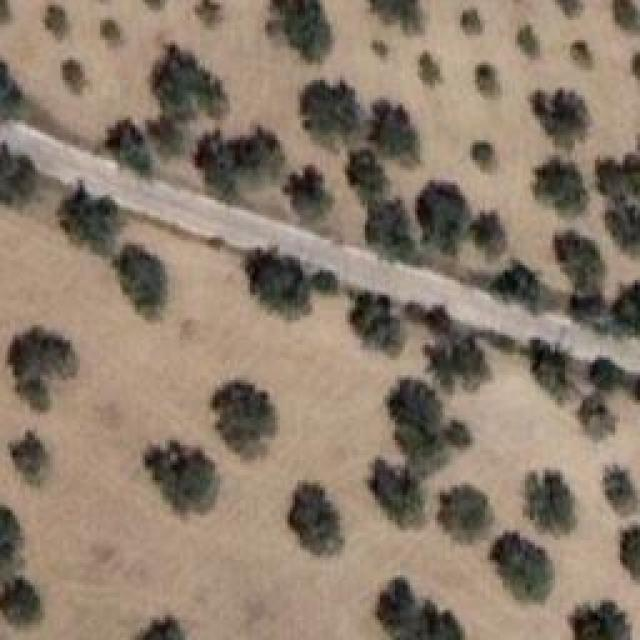Tree: (195, 128, 285, 203), (370, 573, 467, 640), (153, 45, 229, 122), (248, 245, 313, 322), (280, 470, 344, 548), (8, 330, 72, 405), (493, 528, 560, 598), (155, 440, 221, 511), (300, 80, 364, 153), (207, 383, 272, 453), (60, 180, 119, 256), (522, 70, 584, 139), (513, 465, 579, 529), (368, 458, 431, 522), (550, 220, 603, 295), (345, 290, 405, 356), (115, 245, 168, 318), (430, 483, 488, 548), (368, 100, 421, 165), (425, 325, 475, 388), (420, 173, 466, 237), (390, 420, 444, 473), (283, 165, 333, 222), (565, 595, 629, 639), (285, 0, 331, 61), (385, 372, 440, 421), (0, 143, 37, 215), (105, 118, 151, 175), (528, 348, 576, 399), (537, 153, 586, 201), (368, 197, 411, 251), (597, 194, 640, 247), (348, 147, 391, 198), (3, 577, 46, 626), (408, 298, 453, 338), (370, 0, 423, 32), (15, 428, 47, 480), (607, 293, 639, 343), (573, 395, 615, 433), (490, 265, 527, 308), (0, 508, 22, 574), (132, 615, 190, 640), (0, 60, 22, 122), (608, 470, 637, 517), (598, 150, 627, 193), (475, 210, 506, 250), (617, 530, 640, 577), (440, 418, 471, 451), (468, 140, 499, 173), (607, 0, 640, 30), (63, 60, 89, 96), (570, 33, 596, 68), (43, 5, 67, 41), (195, 0, 224, 28), (420, 52, 441, 87), (475, 65, 497, 96), (515, 23, 541, 49), (463, 8, 485, 38), (552, 0, 589, 17), (100, 20, 121, 47)
